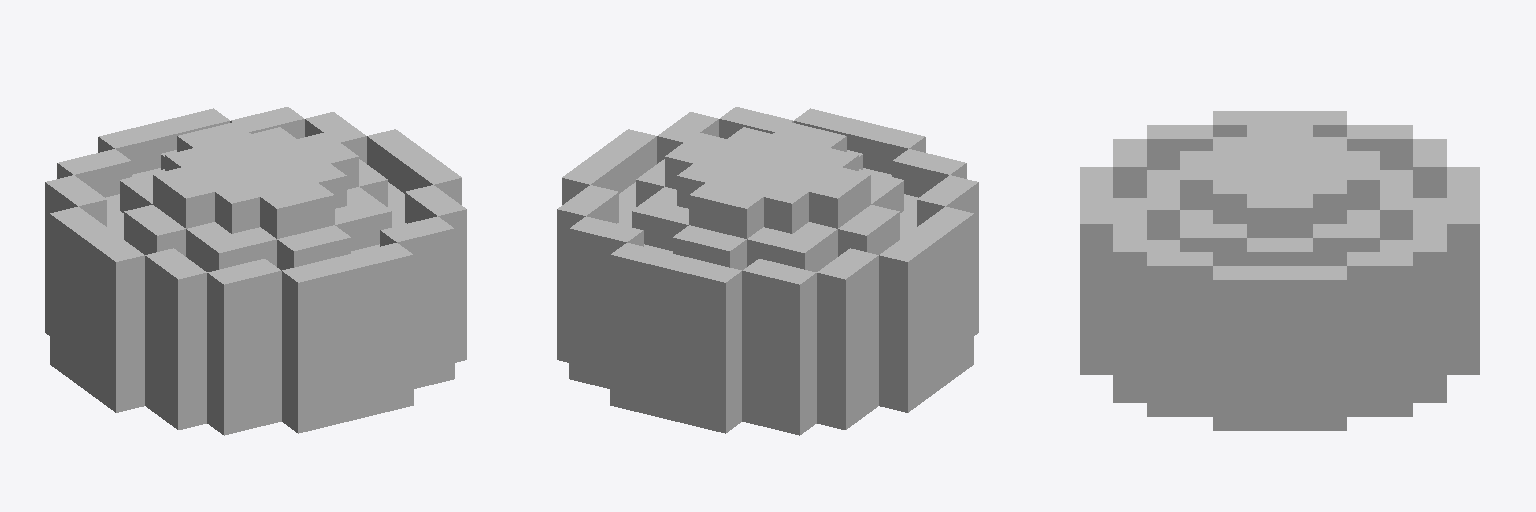
The model's file is cooking_cake_pan_fill_bread.obj.
3 renders of one model, left to right at view 1: azimuth 30°, elevation 25°; view 2: azimuth 150°, elevation 25°; view 3: azimuth 270°, elevation 25°, orthographic.
Parts seen in each view (by area): view 1: node_0_0_0, node_0_0_0.004; view 2: node_0_0_0, node_0_0_0.004; view 3: node_0_0_0, node_0_0_0.004.
Part boxes in pixels (bbox=[...]): node_0_0_0: bbox=[45, 107, 466, 435]; node_0_0_0.004: bbox=[106, 122, 406, 271]; node_0_0_0: bbox=[557, 107, 978, 435]; node_0_0_0.004: bbox=[617, 122, 917, 271]; node_0_0_0: bbox=[1080, 111, 1479, 430]; node_0_0_0.004: bbox=[1113, 123, 1446, 265].
Bounding box in the file's own units: 0.75 × 0.375 × 0.75.